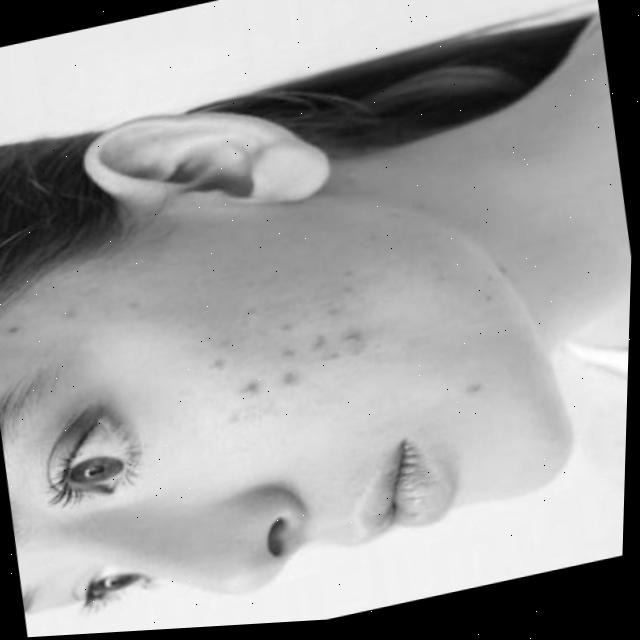Acne: (201, 273, 341, 443)
